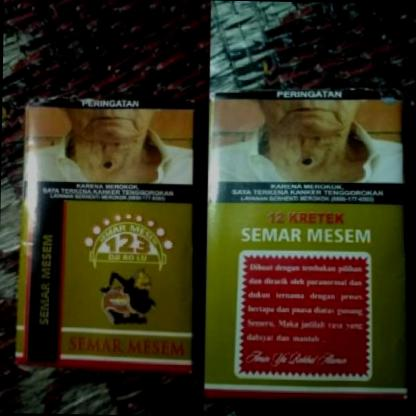objects: (205, 87, 413, 403), (14, 97, 199, 374)
